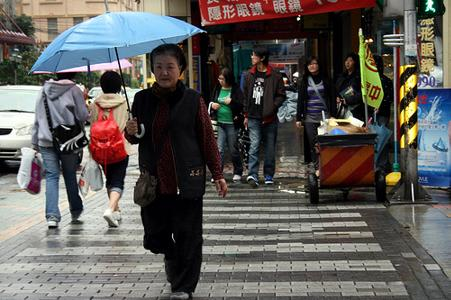person: (124, 43, 230, 300)
